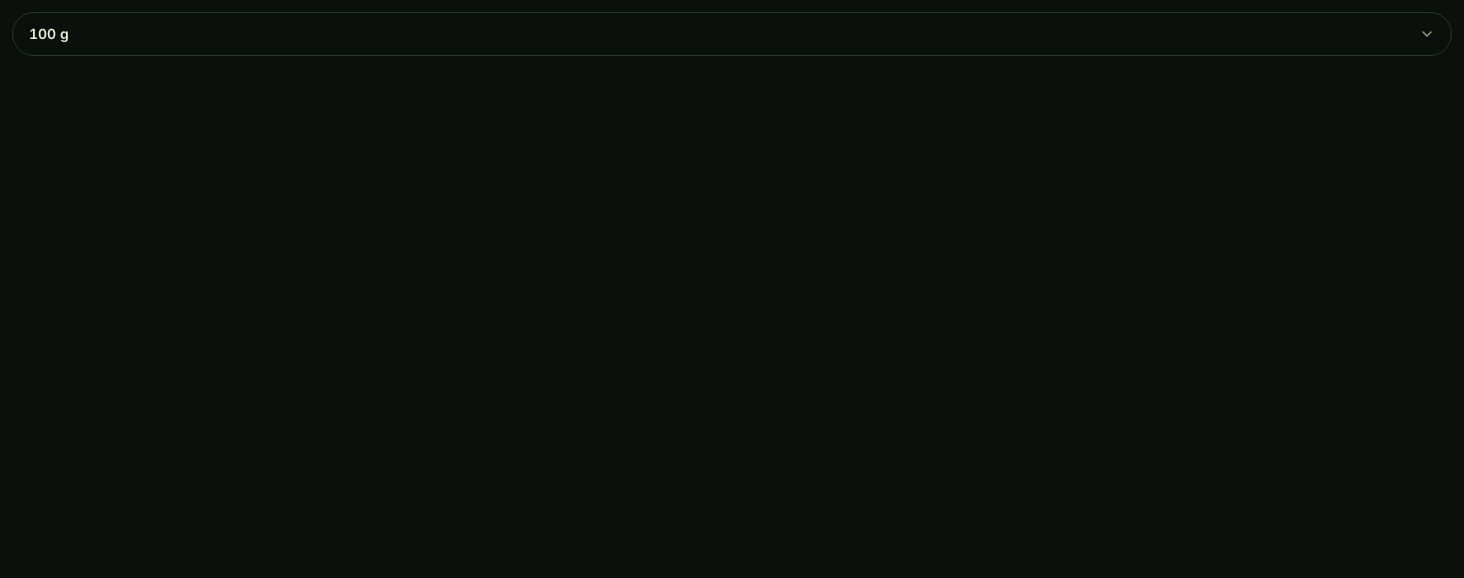
Test: GramazPill › předvolby balení ukáže i když gramáž sedí na předvolbu gramů
What coordinates should you click on to do the following:
click the button named "Množství"
I would click on:
 (49, 34)
Its box is [12, 12, 1452, 56].
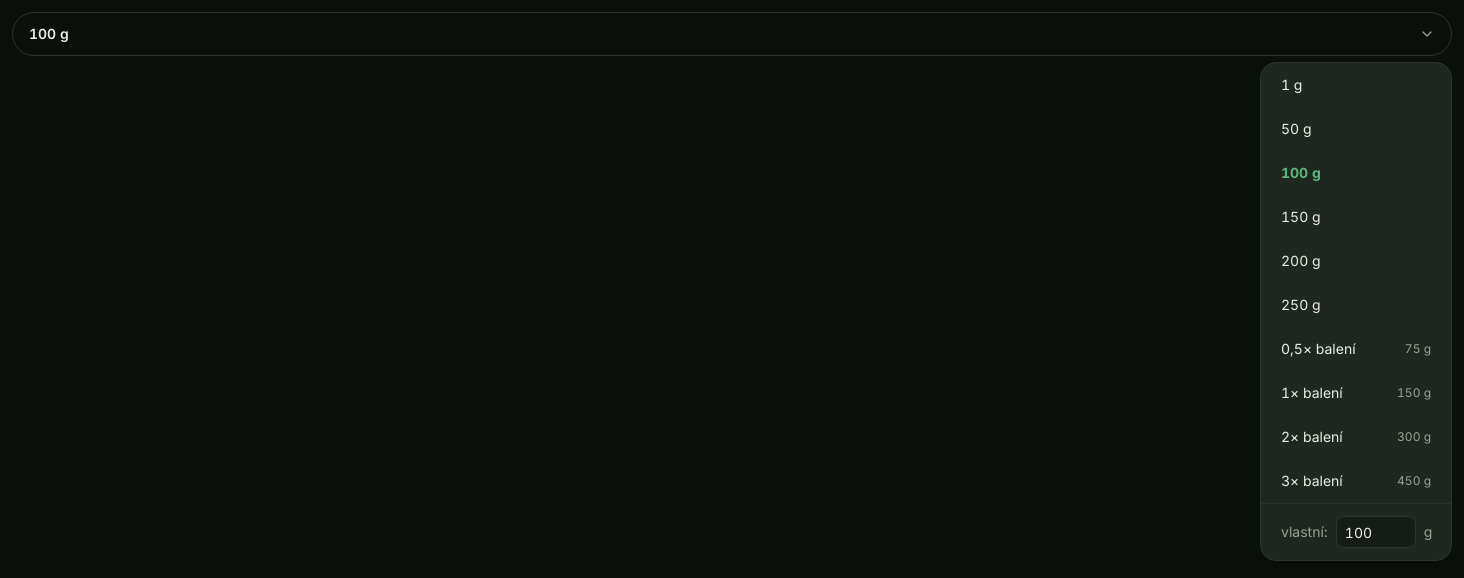
Check: the menu item "1× balení 150 g" is shown, box [1261, 371, 1451, 415]
